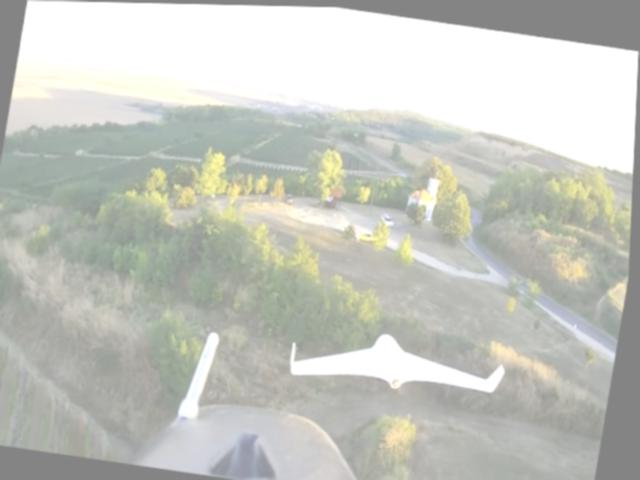plane: (290, 319, 513, 404)
